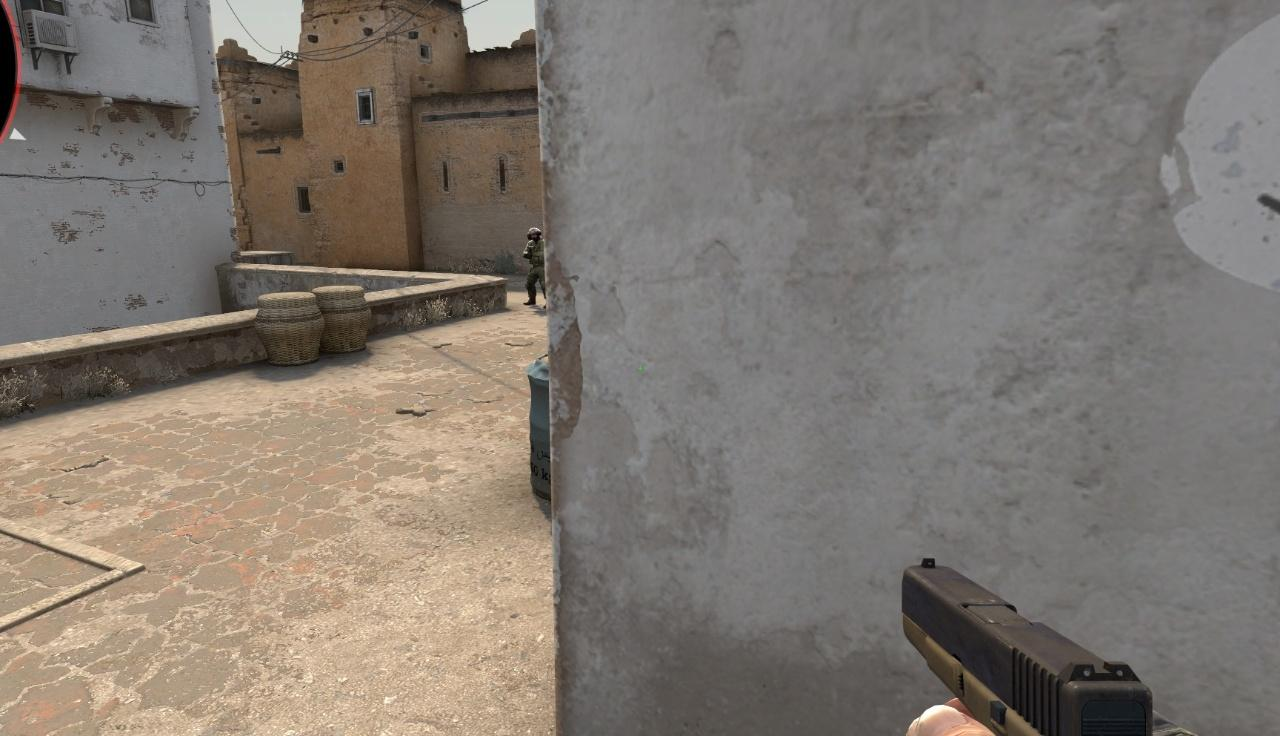ct: (523, 227, 547, 309)
cthead: (529, 228, 540, 242)
pistol: (901, 557, 1205, 736)
